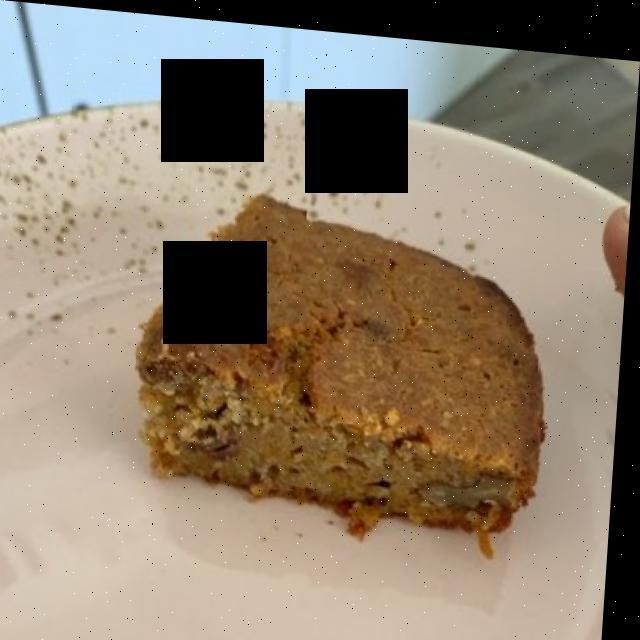cake: (149, 199, 546, 532)
